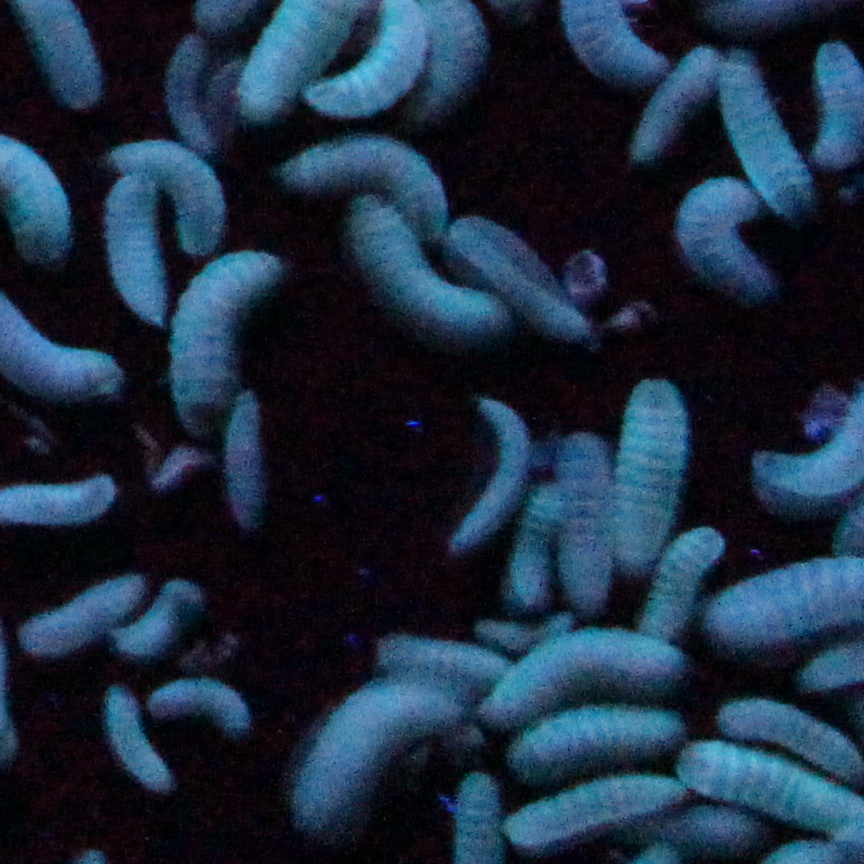larve: (339, 206, 512, 366), (432, 196, 608, 353), (297, 678, 461, 831), (173, 244, 272, 436), (710, 51, 821, 216), (482, 635, 686, 720), (273, 140, 452, 236), (430, 393, 532, 560), (602, 380, 692, 567), (664, 173, 777, 307), (108, 133, 228, 256), (506, 771, 688, 849), (512, 702, 692, 778), (13, 575, 148, 666), (372, 622, 521, 704), (624, 36, 717, 166), (99, 169, 175, 326), (552, 427, 615, 615), (93, 680, 186, 796), (632, 522, 717, 642), (151, 36, 221, 153), (221, 395, 279, 536), (142, 675, 261, 738), (501, 489, 562, 609), (117, 580, 206, 658)
